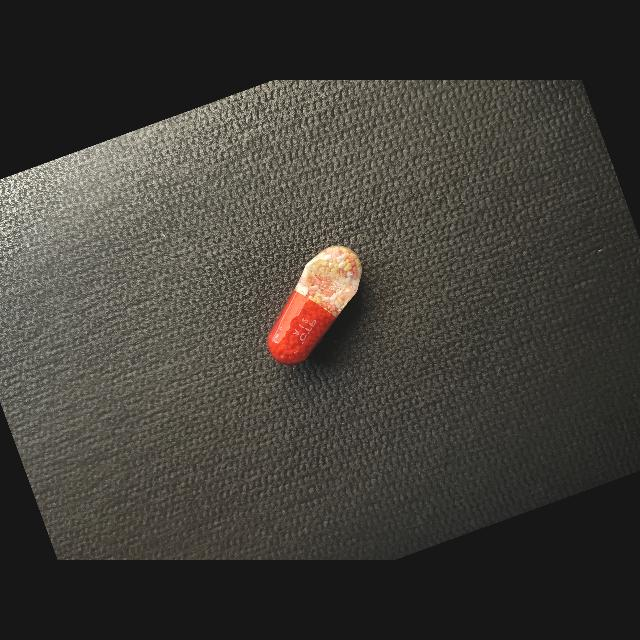Defective Capsule: (267, 245, 362, 365)
